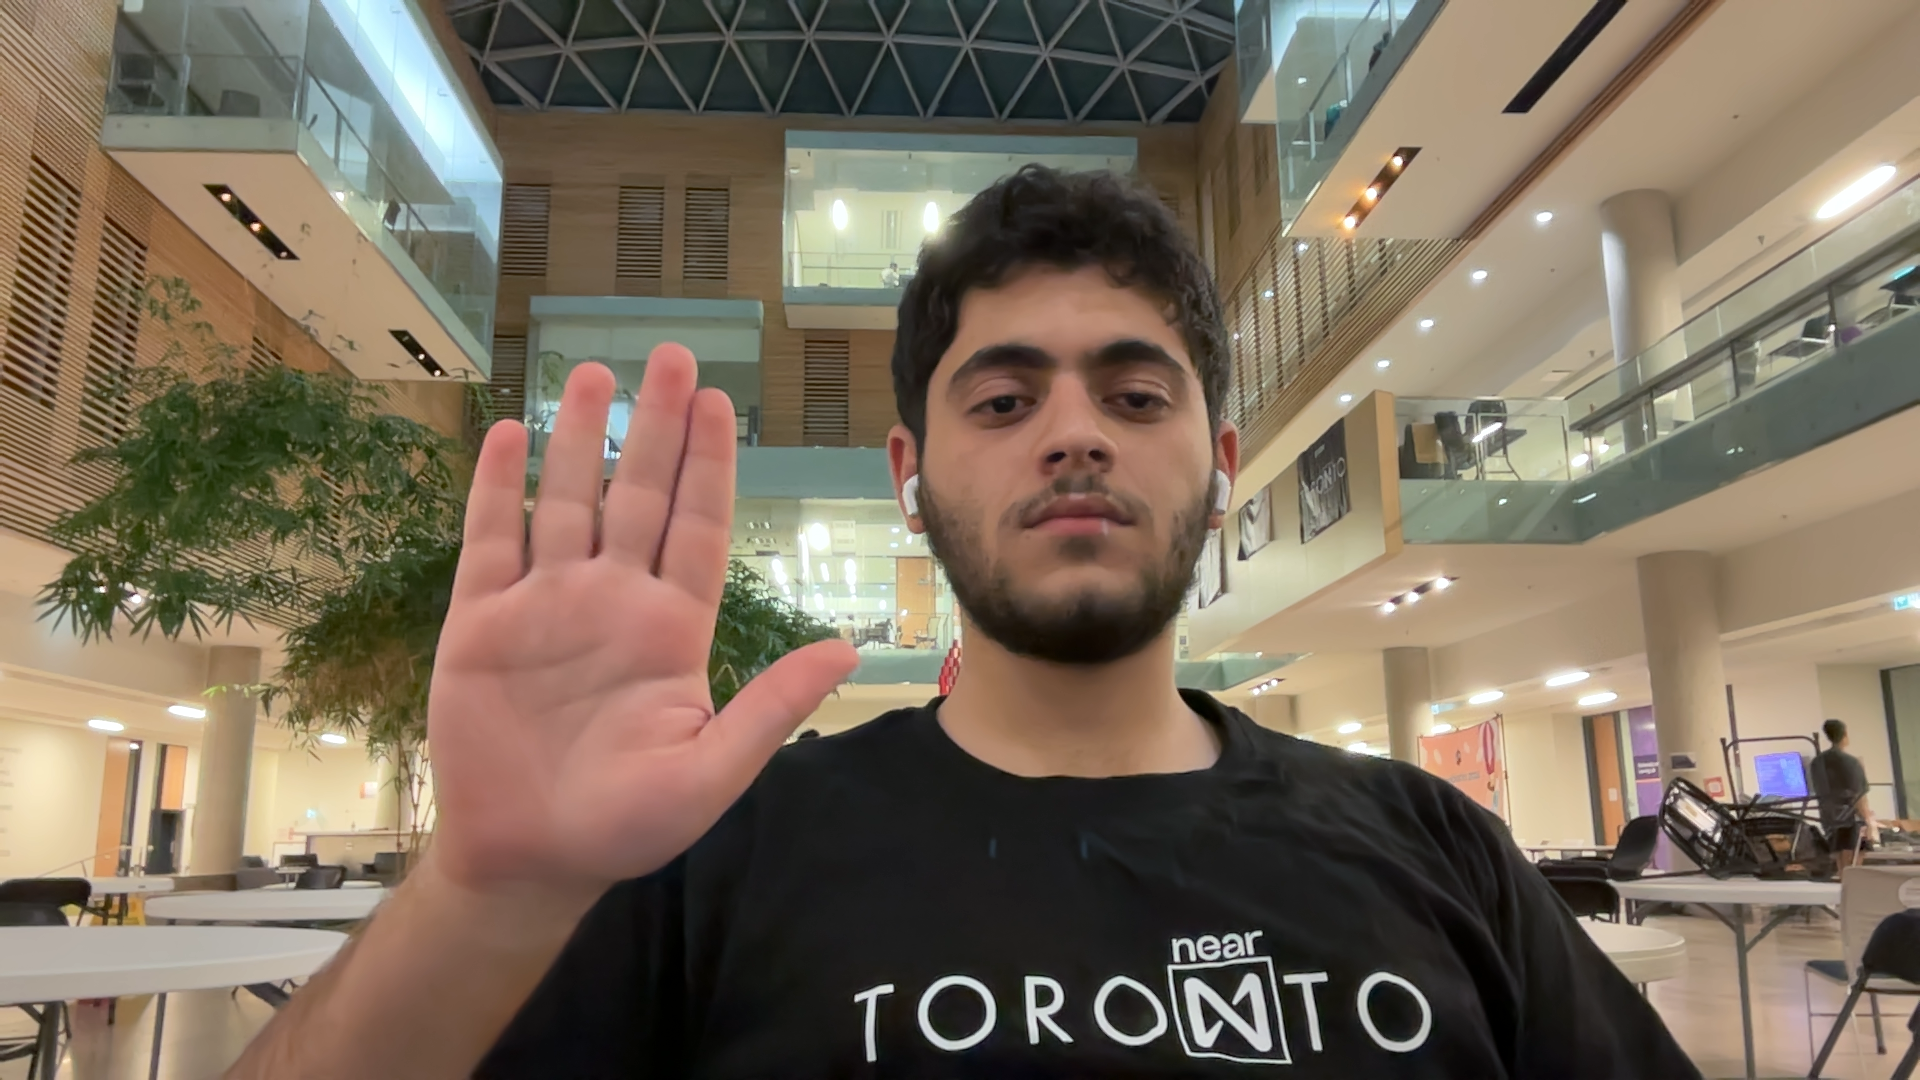Hello: (390, 348, 862, 895)
